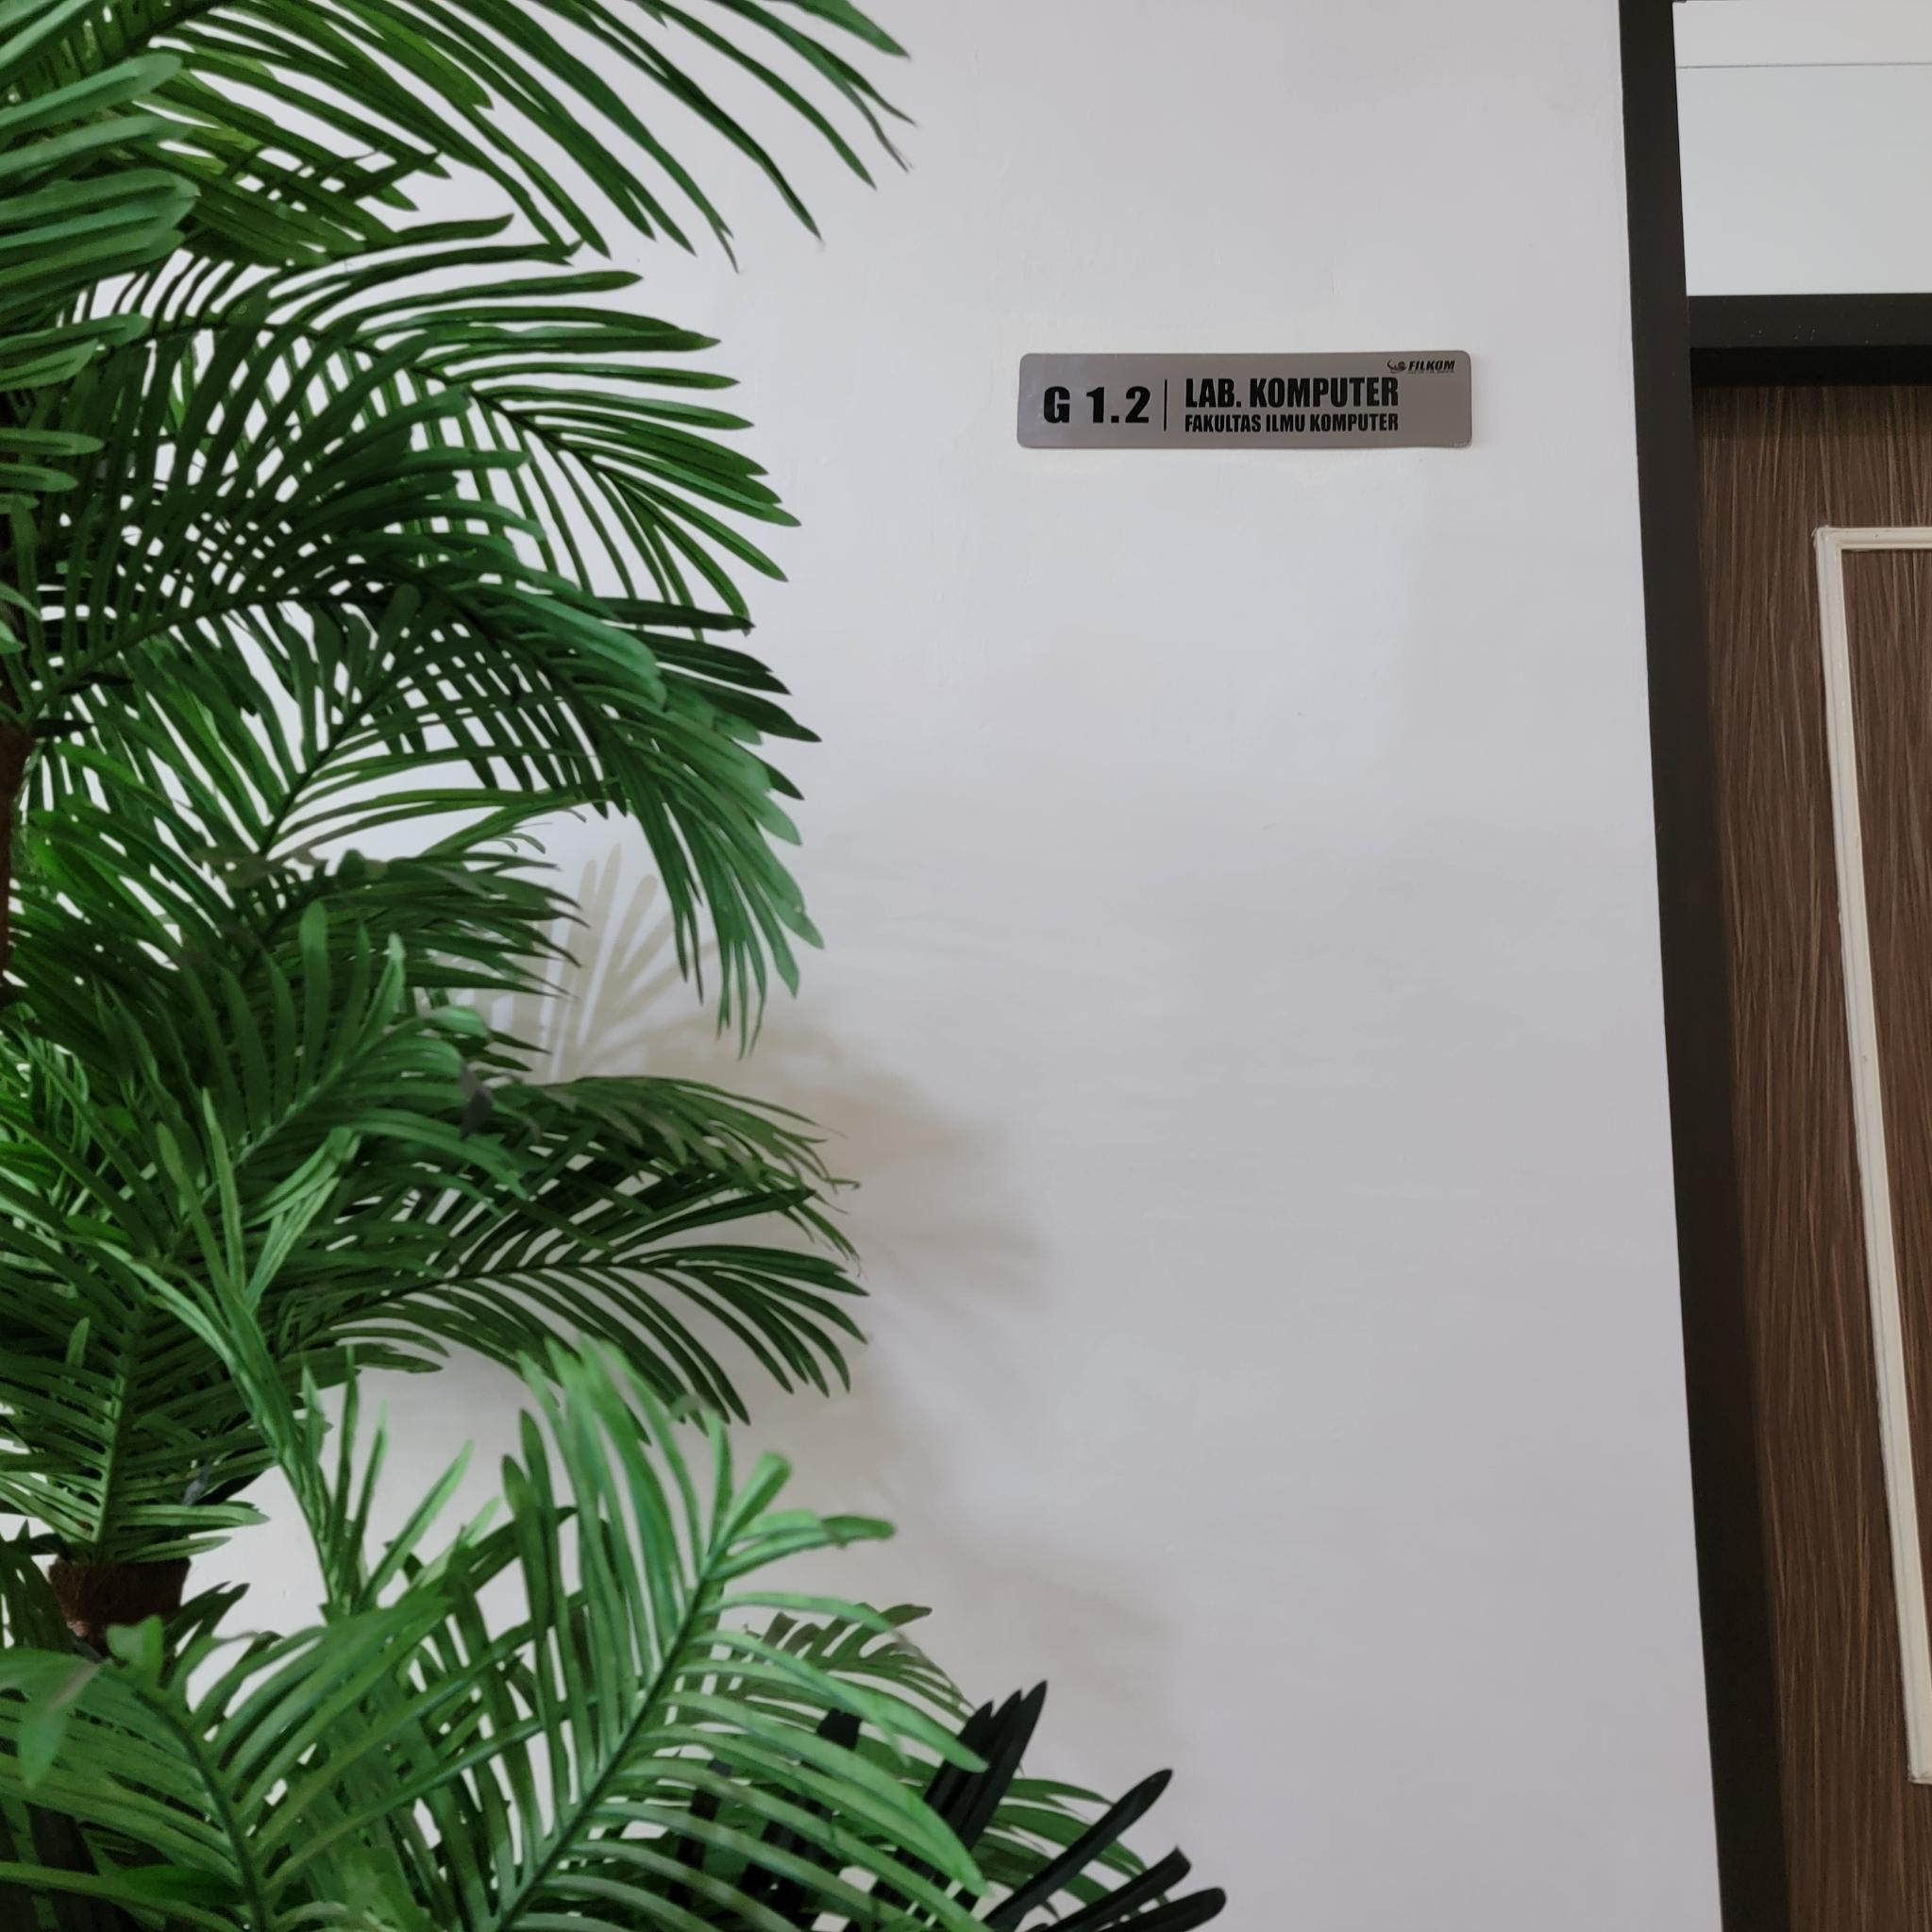plate: (1019, 349, 1474, 449)
